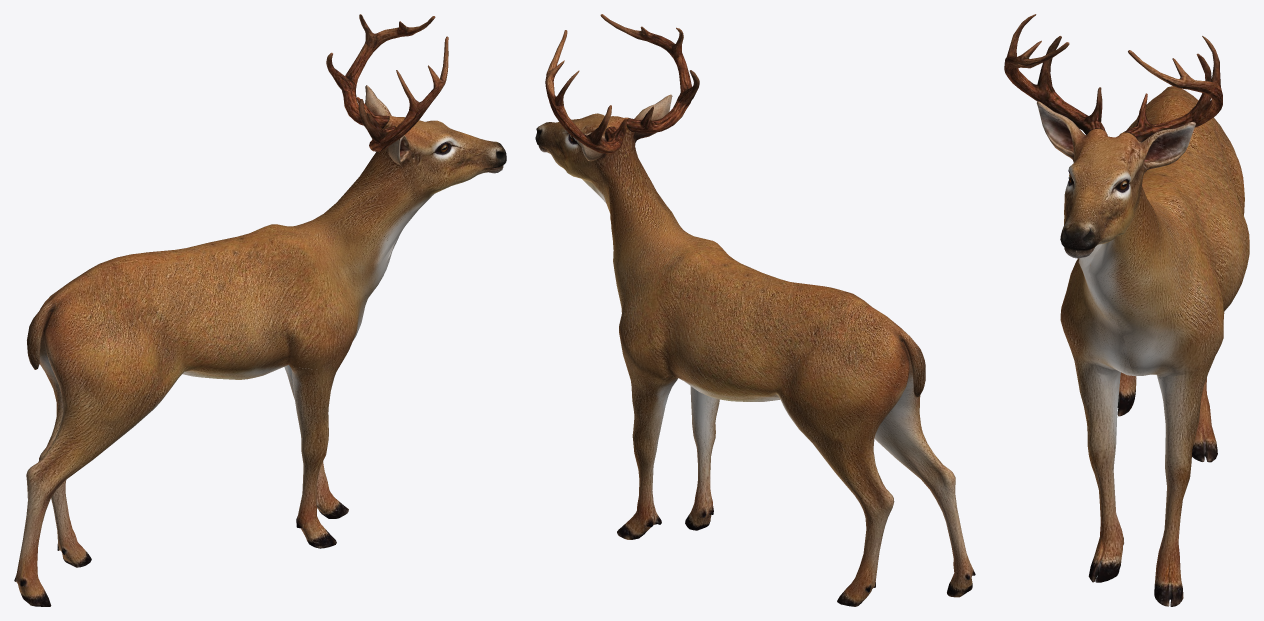
File: realistic_deer.glb
3 views of the same model, side by side, from view 1: azimuth 30°, elevation 25°; view 2: azimuth 150°, elevation 25°; view 3: azimuth 270°, elevation 25° (orthographic). The views are drawn at different scales.
Visible parts, largest first — view 1: deer.002; view 2: deer.002; view 3: deer.002.
Part boxes in pixels (x1,y1,x2,y2): deer.002: [14, 14, 506, 606]; deer.002: [535, 14, 975, 606]; deer.002: [1004, 14, 1249, 606].
Size of the model in its own units: 4.62 by 4.63 by 1.71.
Materials: 1 (1 with a texture image).
